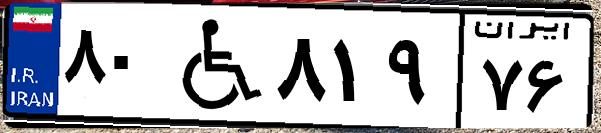0: (110, 28, 158, 98)
1: (330, 28, 385, 110)
6: (525, 38, 570, 115)
7: (475, 38, 525, 113)
8: (270, 28, 330, 110), (57, 26, 110, 100)
9: (385, 28, 445, 110)
ژ (معلولین و جانبازان): (158, 12, 270, 120)
